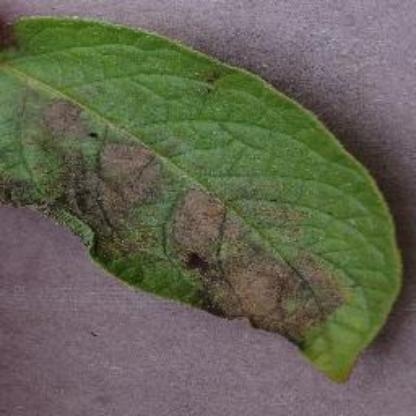Late-Blight: (3, 11, 395, 371)
